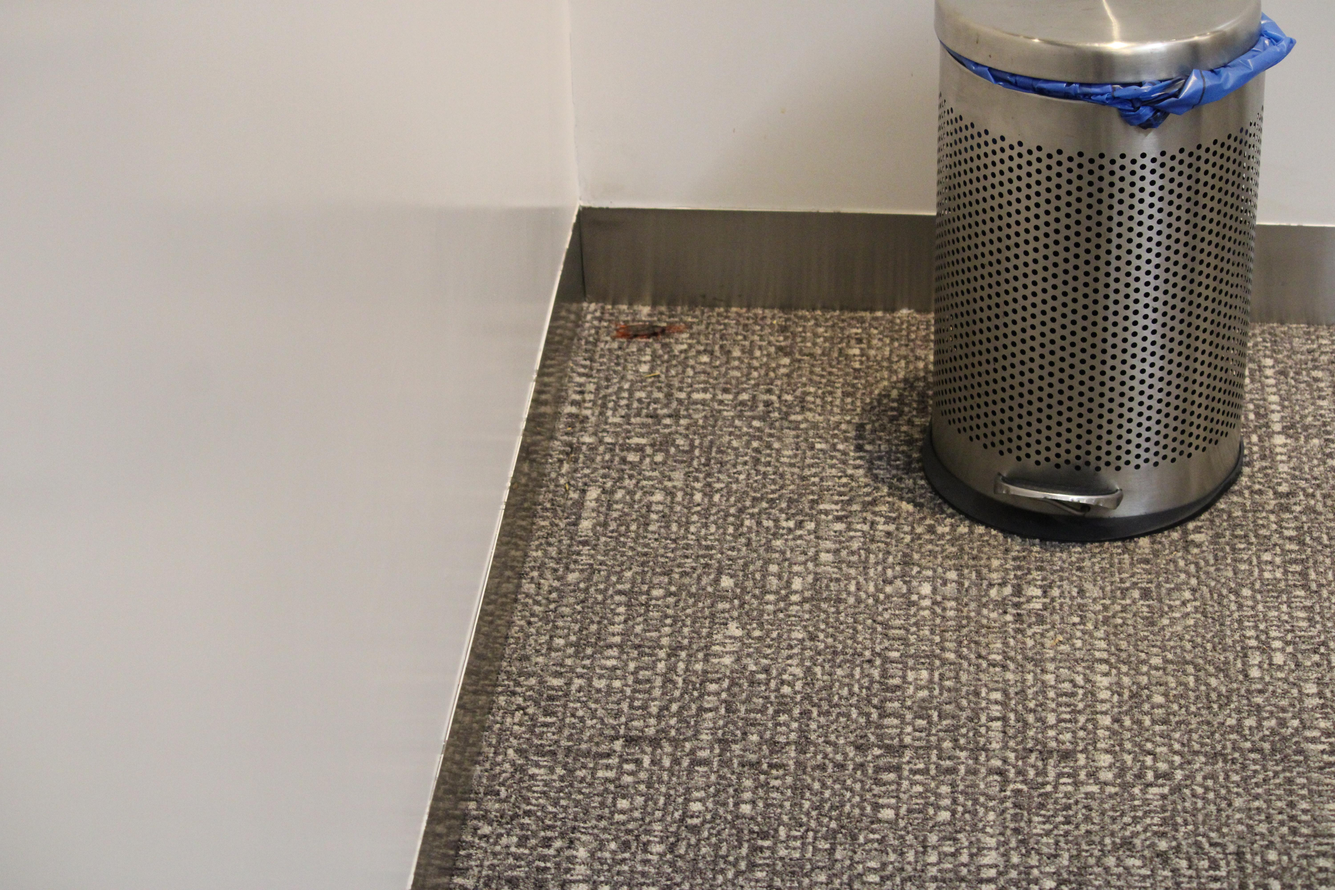cockroach: (612, 310, 676, 351)
